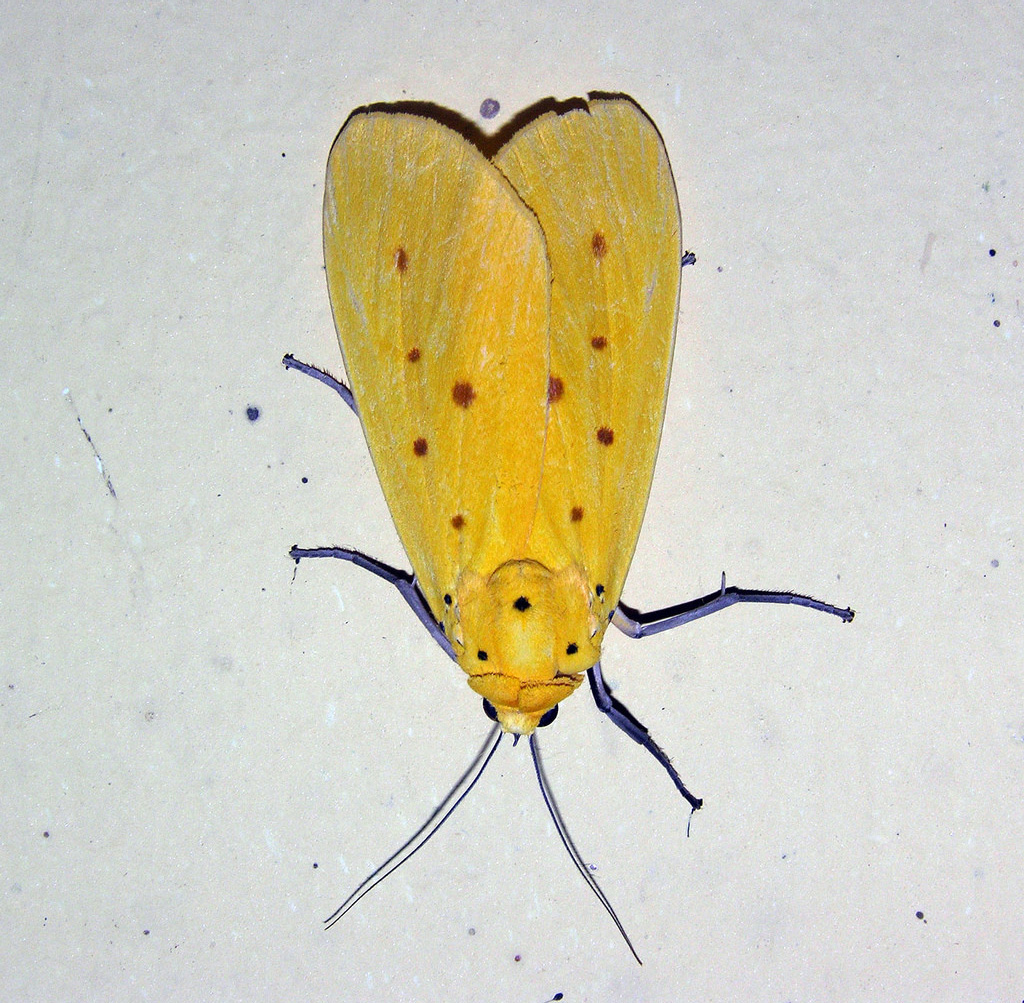Agape chloropyga: (281, 75, 875, 970)
moth: (283, 77, 877, 972)
